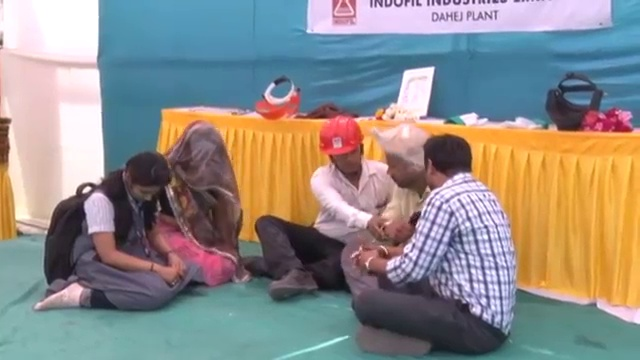helmet: (317, 116, 368, 155)
helmet_off: (171, 127, 229, 194), (416, 135, 476, 198), (113, 153, 174, 208), (382, 132, 429, 186)
helmet_on: (317, 115, 368, 180)
person: (350, 132, 517, 358), (243, 115, 389, 302), (38, 154, 190, 313), (145, 115, 246, 286), (340, 129, 431, 293)
